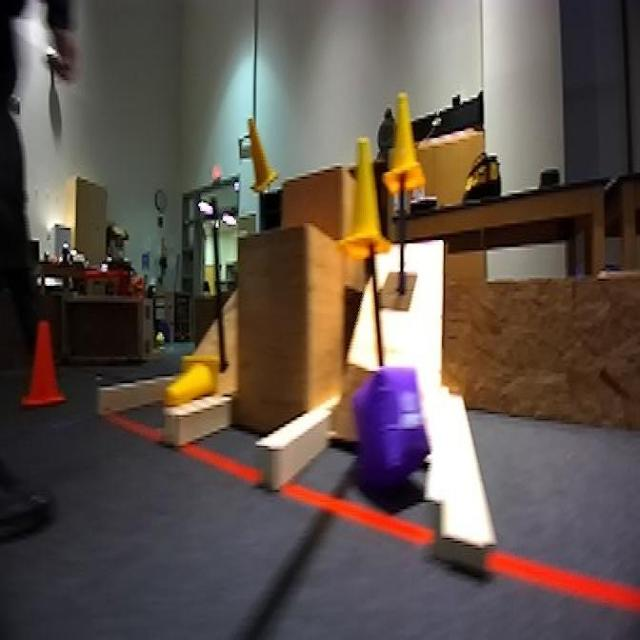frc_cone: (334, 122, 390, 260), (382, 90, 425, 194), (163, 361, 225, 410), (240, 114, 276, 191)
frc_cube: (356, 364, 432, 507)
